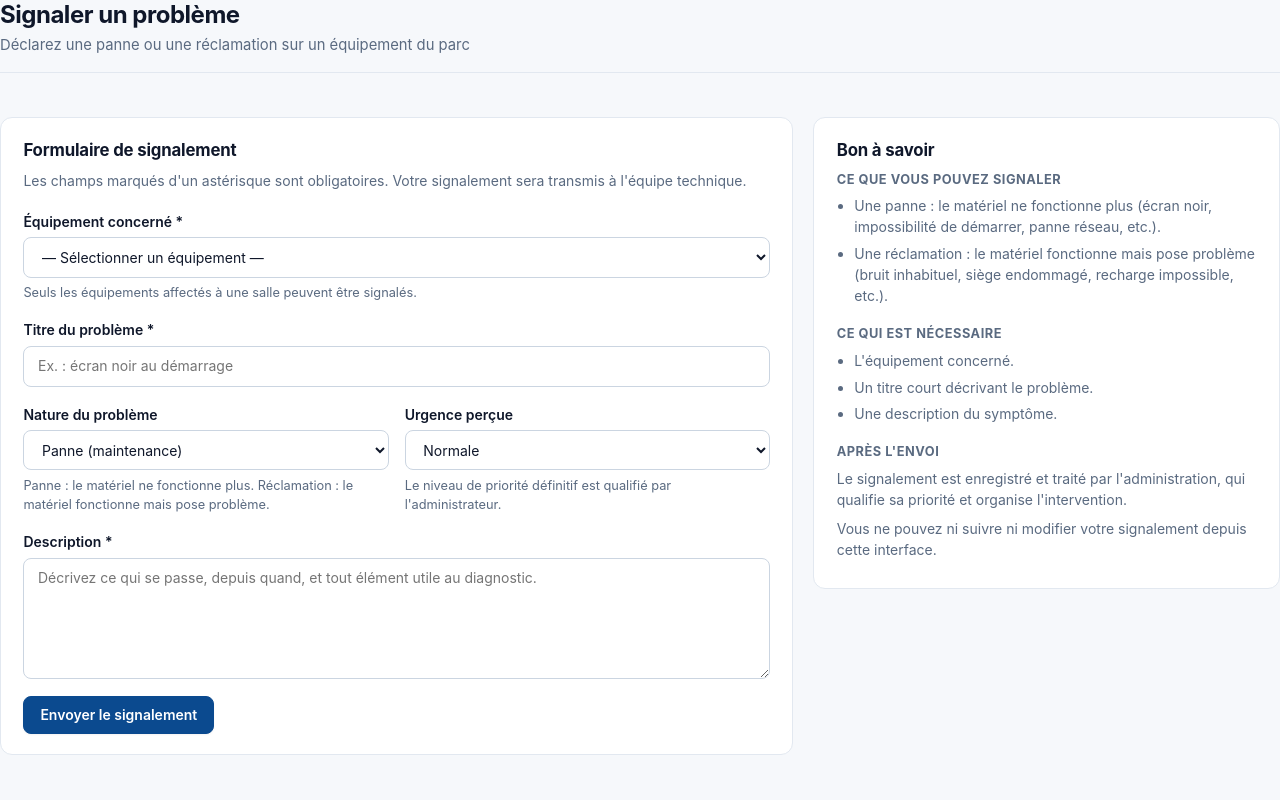
Scenario: TicketPublic.vue › validation et soumission › refuse l'envoi sans équipement sélectionné
Type "Écran noir" into the field with id "titre" at (397, 366), box [23,346,770,387]
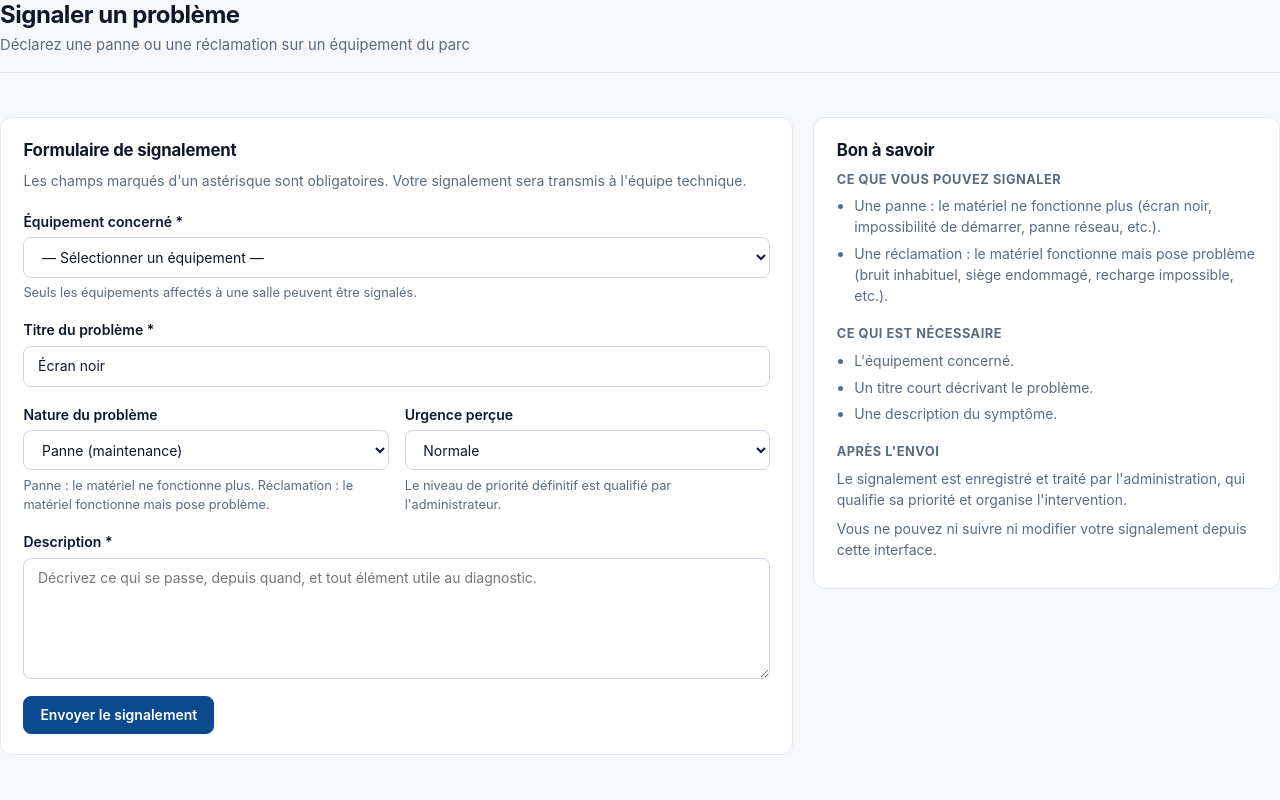
Replace the text in the text box with id "description" with "L'écran ne s'allume plus." at (397, 618), box [23,558,770,679]
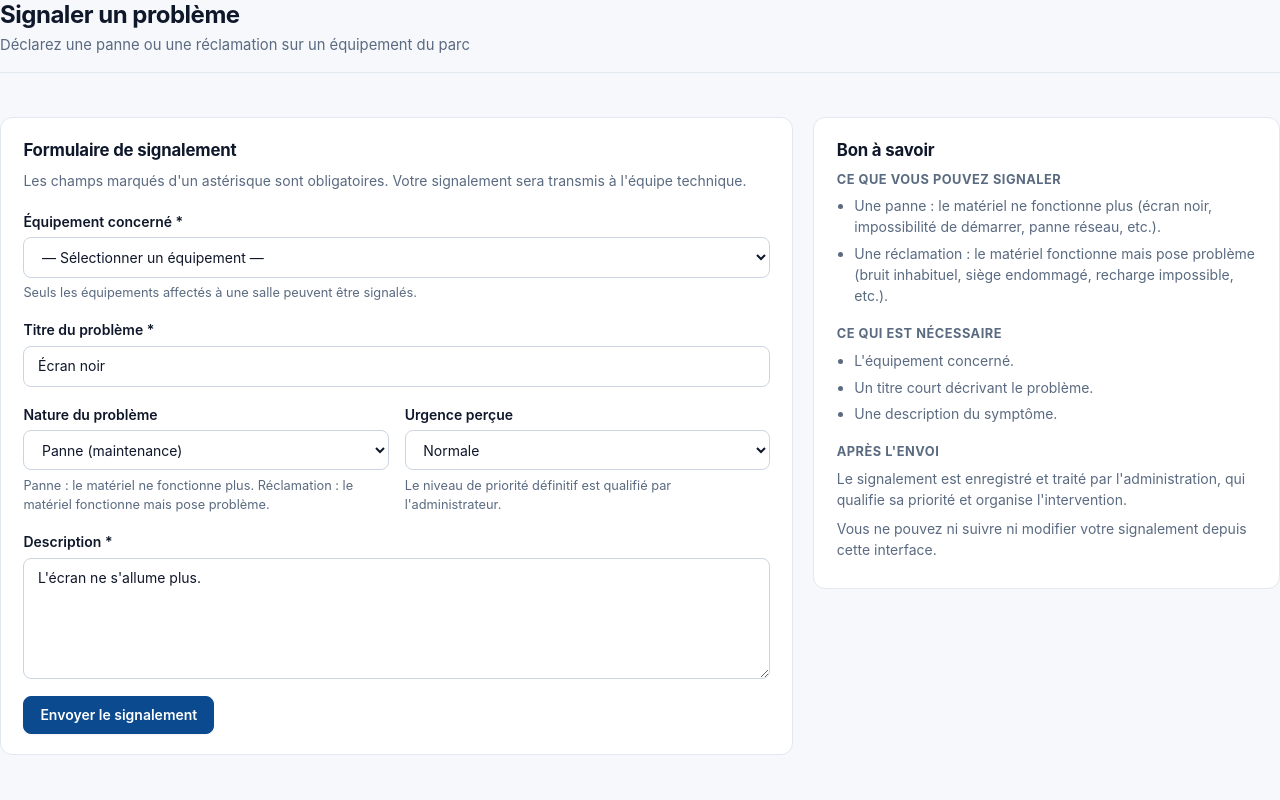
Submit the form, box [23,211,770,734]
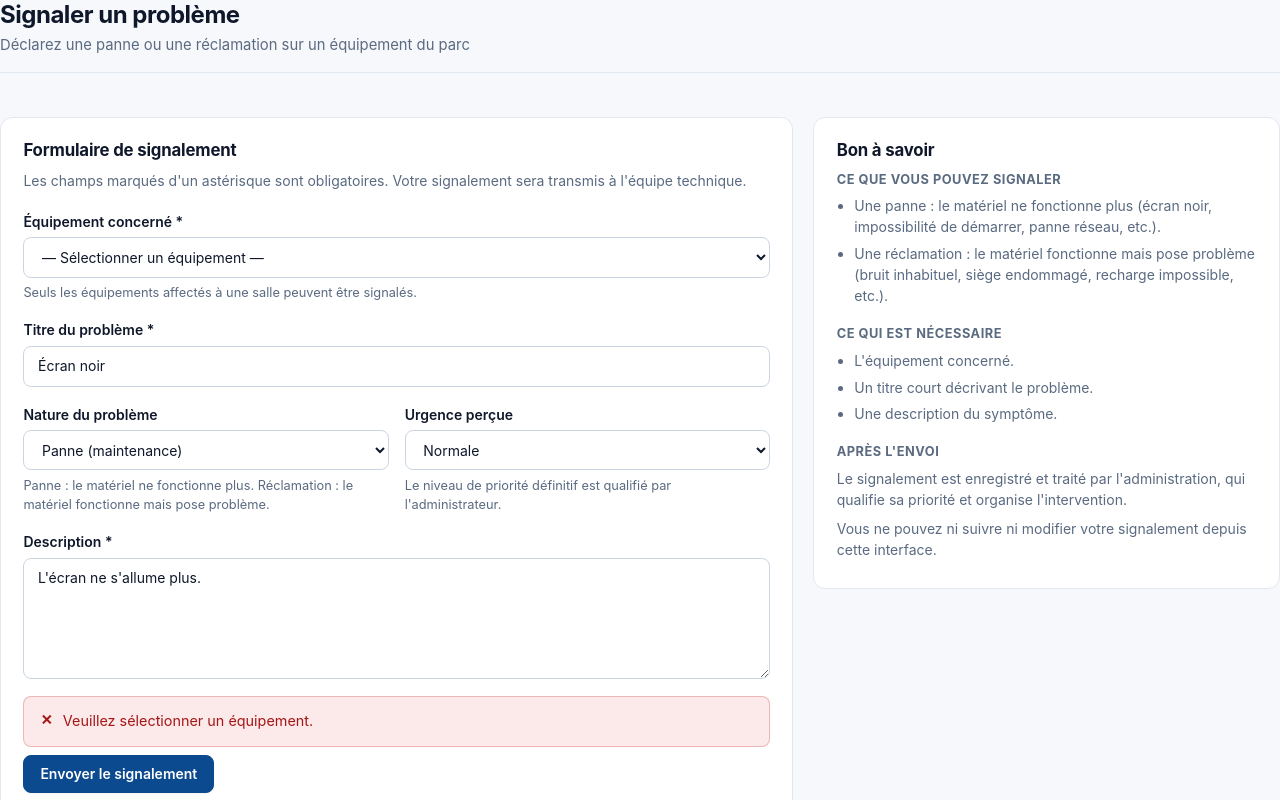
Result: the message "✕ Veuillez sélectionner un équipement." is shown at [23,696,770,747]
